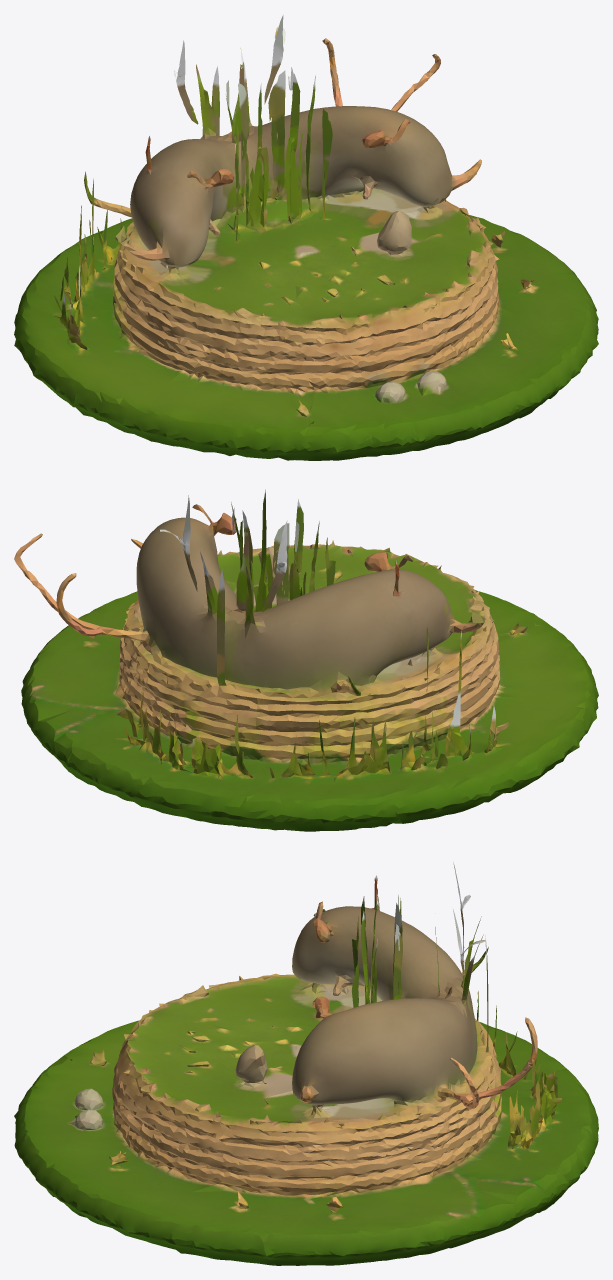
3 views of the same model, one above another, from view 1: azimuth 30°, elevation 25°; view 2: azimuth 150°, elevation 25°; view 3: azimuth 270°, elevation 25° (orthographic).
Visible parts, largest first — view 1: GatherSeeds; view 2: GatherSeeds; view 3: GatherSeeds.
Boxes of the visible parts, bbox=[...] form: GatherSeeds: bbox=[14, 15, 598, 460]; GatherSeeds: bbox=[14, 489, 598, 831]; GatherSeeds: bbox=[14, 862, 598, 1265].
Bounding box in the file's own units: 1.9 × 0.949 × 1.89.
1 material, 1 textured.
